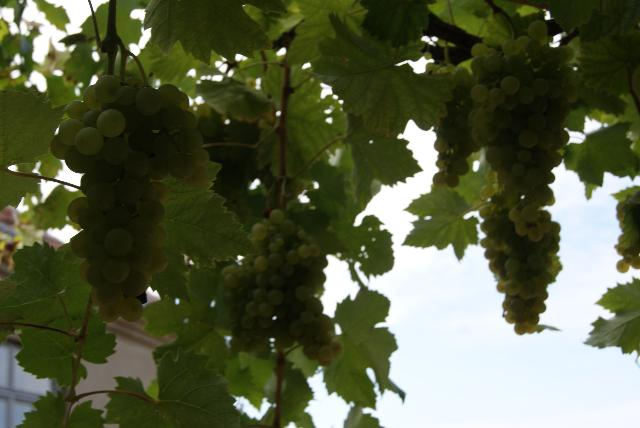grapes: (51, 74, 209, 322), (470, 21, 578, 335), (221, 210, 334, 365), (435, 68, 479, 180)
